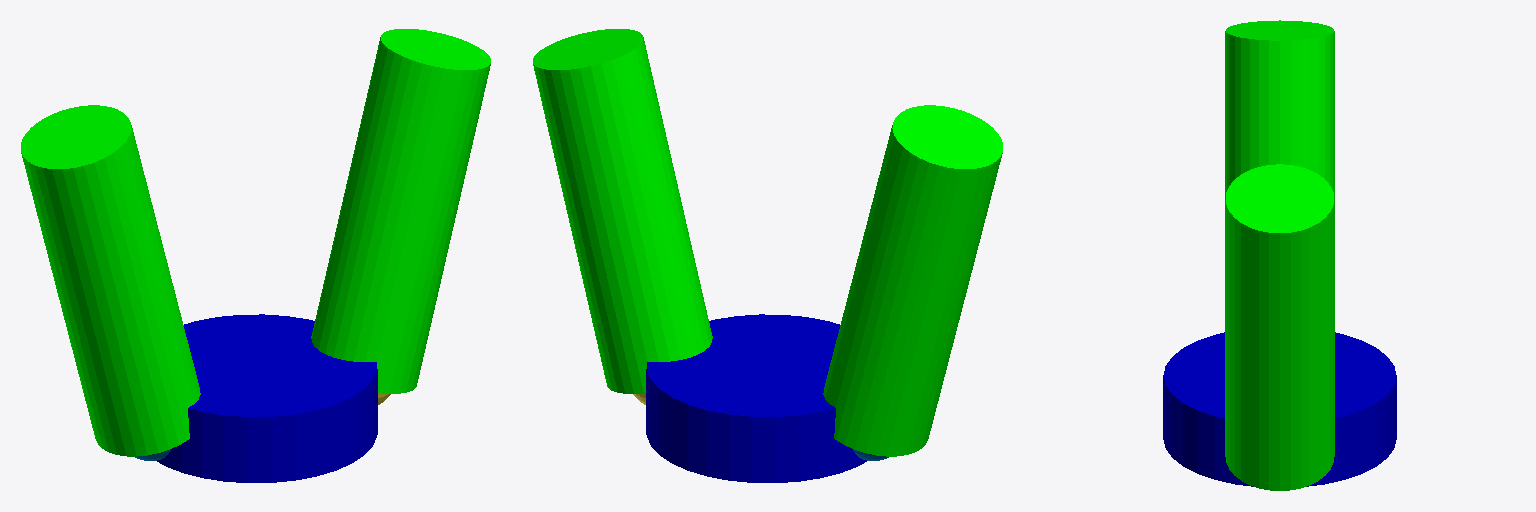
robot.urdf — gripper_2f_1j:
<?xml version='1.0' encoding='UTF-8'?>
<robot name="gripper_2f_1j">
  <link name="palm">
    <inertial>
      <origin xyz="0.0 0.0 0.0" rpy="0.0 -0.0 0.0"/>
      <mass value="1.0"/>
      <inertia ixx="1.0" ixy="0.0" ixz="0.0" iyy="1.0" iyz="0.0" izz="1.0"/>
    </inertial>
    <visual>
      <geometry>
        <cylinder radius="0.05" length="0.03"/>
      </geometry>
      <material name="blue"/>
      <origin xyz="0.0 0.0 0.0" rpy="0.0 -0.0 0.0"/>
    </visual>
    <collision>
      <geometry>
        <cylinder radius="0.05" length="0.03"/>
      </geometry>
      <origin xyz="0.0 0.0 0.0" rpy="0.0 0.0 0.0"/>
    </collision>
  </link>
  <link name="f11">
    <inertial>
      <origin xyz="0.0 0.0 0.0" rpy="0.0 -0.0 0.0"/>
      <mass value="1.0"/>
      <inertia ixx="1.0" ixy="0.0" ixz="0.0" iyy="1.0" iyz="0.0" izz="1.0"/>
    </inertial>
    <visual>
      <geometry>
        <cylinder radius="0.023376649082216736" length="0.1428450896873641"/>
      </geometry>
      <material name="green"/>
      <origin xyz="0.0 0.0 0.07142254484368205" rpy="0.0 -0.0 0.0"/>
    </visual>
    <collision>
      <geometry>
        <cylinder radius="0.023376649082216736" length="0.1428450896873641"/>
      </geometry>
      <origin xyz="0.0 0.0 0.05" rpy="0.0 0.0 0.0"/>
    </collision>
  </link>
  <link name="f21">
    <inertial>
      <origin xyz="0.0 0.0 0.0" rpy="0.0 -0.0 0.0"/>
      <mass value="1.0"/>
      <inertia ixx="1.0" ixy="0.0" ixz="0.0" iyy="1.0" iyz="0.0" izz="1.0"/>
    </inertial>
    <visual>
      <geometry>
        <cylinder radius="0.023376649082216736" length="0.1428450896873641"/>
      </geometry>
      <material name="green"/>
      <origin xyz="0.0 0.0 0.07142254484368205" rpy="0.0 -0.0 0.0"/>
    </visual>
    <collision>
      <geometry>
        <cylinder radius="0.023376649082216736" length="0.1428450896873641"/>
      </geometry>
      <origin xyz="0.0 0.0 0.05" rpy="0.0 0.0 0.0"/>
    </collision>
  </link>
  <link name="f11_base">
    <inertial>
      <origin xyz="0.0 0.0 0.0" rpy="0.0 -0.0 0.0"/>
      <mass value="1.0"/>
      <inertia ixx="1.0" ixy="0.0" ixz="0.0" iyy="1.0" iyz="0.0" izz="1.0"/>
    </inertial>
    <visual>
      <geometry>
        <sphere radius="0.015"/>
      </geometry>
      <origin xyz="0.0 0.0 0.0" rpy="0.0 -0.0 0.0"/>
    </visual>
  </link>
  <link name="f21_base">
    <inertial>
      <origin xyz="0.0 0.0 0.0" rpy="0.0 -0.0 0.0"/>
      <mass value="1.0"/>
      <inertia ixx="1.0" ixy="0.0" ixz="0.0" iyy="1.0" iyz="0.0" izz="1.0"/>
    </inertial>
    <visual>
      <geometry>
        <sphere radius="0.015"/>
      </geometry>
      <origin xyz="0.0 0.0 0.0" rpy="0.0 -0.0 0.0"/>
    </visual>
  </link>
  <joint name="f11_joint" type="revolute">
    <dynamics damping="100.0" friction="1.0"/>
    <limit effort="30.0" velocity="2.0" lower="-0.6" upper="0.25"/>
    <parent link="f11_base"/>
    <child link="f11"/>
    <axis xyz="0. 1. 0."/>
    <origin xyz="0.0 0.0 0.0" rpy="0.0 0.25 0.0"/>
  </joint>
  <joint name="f21_joint" type="revolute">
    <dynamics damping="100.0" friction="1.0"/>
    <limit effort="30.0" velocity="2.0" lower="-0.6" upper="0.25"/>
    <parent link="f21_base"/>
    <child link="f21"/>
    <axis xyz=" 0. -1.  0."/>
    <origin xyz="0.0 0.0 0.0" rpy="0.0 -0.25 0.0"/>
  </joint>
  <joint name="f11_base_joint" type="fixed">
    <parent link="palm"/>
    <child link="f11_base"/>
    <axis xyz="1. 0. 0."/>
    <origin xyz="0.05 0.0 0.0" rpy="0.0 0.0 0.0"/>
  </joint>
  <joint name="f21_base_joint" type="fixed">
    <parent link="palm"/>
    <child link="f21_base"/>
    <axis xyz="1. 0. 0."/>
    <origin xyz="-0.05 -0.0 0.0" rpy="0.0 0.0 0.0"/>
  </joint>
  <material name="blue">
    <color rgba="0.  0.  0.8 1. "/>
  </material>
  <material name="green">
    <color rgba="0. 1. 0. 1."/>
  </material>
</robot>

--- Render facts (derived) ---
Views: 3 orthographic renders of the robot side by side, from view 1: azimuth 30°, elevation 25°; view 2: azimuth 150°, elevation 25°; view 3: azimuth 270°, elevation 25°.
Robot: gripper_2f_1j — 5 links, 4 joints (2 revolute, 2 fixed); root link palm; default pose: every joint at zero.
Visible links, largest first — view 1: f11, f21, palm; view 2: f11, f21, palm; view 3: f11, f21, palm.
Link boxes in pixels (x1,y1,x2,y2): f11: (311, 29, 490, 393); f21: (21, 105, 200, 456); palm: (157, 314, 377, 482); f11: (533, 29, 712, 393); f21: (823, 105, 1002, 456); palm: (646, 314, 866, 482); f11: (1225, 164, 1334, 490); f21: (1225, 20, 1334, 198); palm: (1163, 332, 1396, 486).
Bounding box of the posed robot: 0.216 × 0.1 × 0.1592 m (x, y, z).
Geometry: primitives only (box / cylinder / sphere), no mesh files.